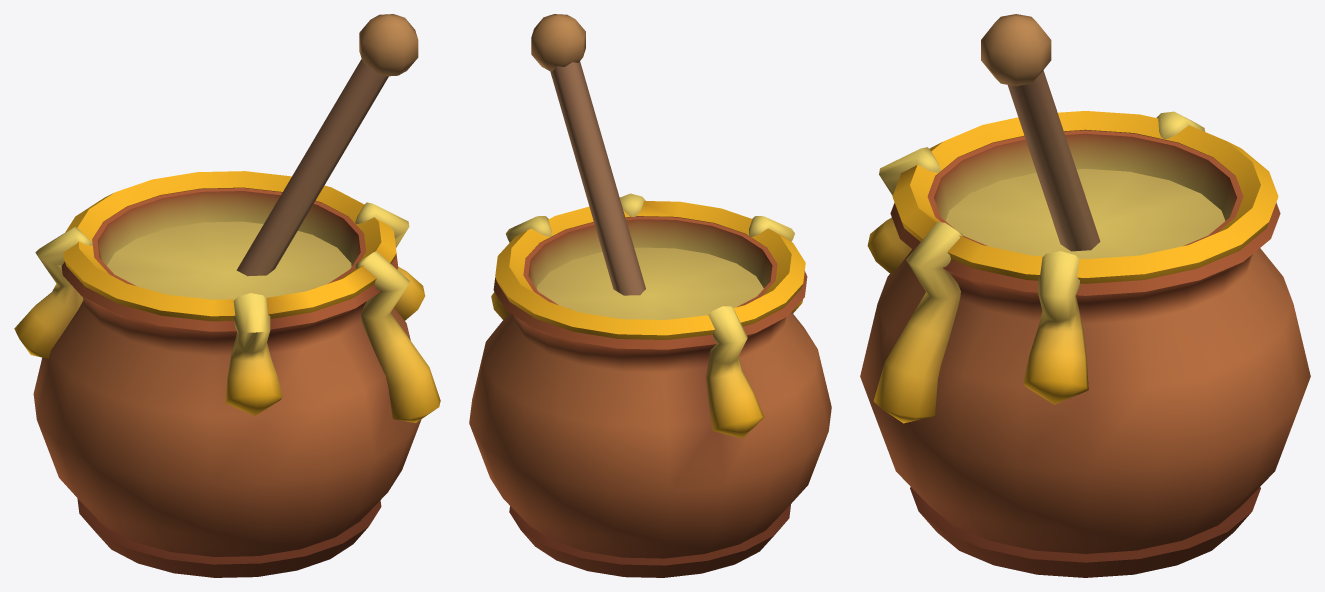
File: honey.glb
3 views of the same model, side by side, from view 1: azimuth 30°, elevation 25°; view 2: azimuth 150°, elevation 25°; view 3: azimuth 270°, elevation 25° (orthographic). The views are drawn at different scales.
Visible parts, largest first — view 1: honey; view 2: honey; view 3: honey.
Boxes of the visible parts, x1,y1,x2,y2 form: honey: (14, 14, 440, 577); honey: (469, 14, 831, 577); honey: (860, 14, 1310, 577).
Bounding box in the file's own units: 0.2136 × 0.295 × 0.208.
